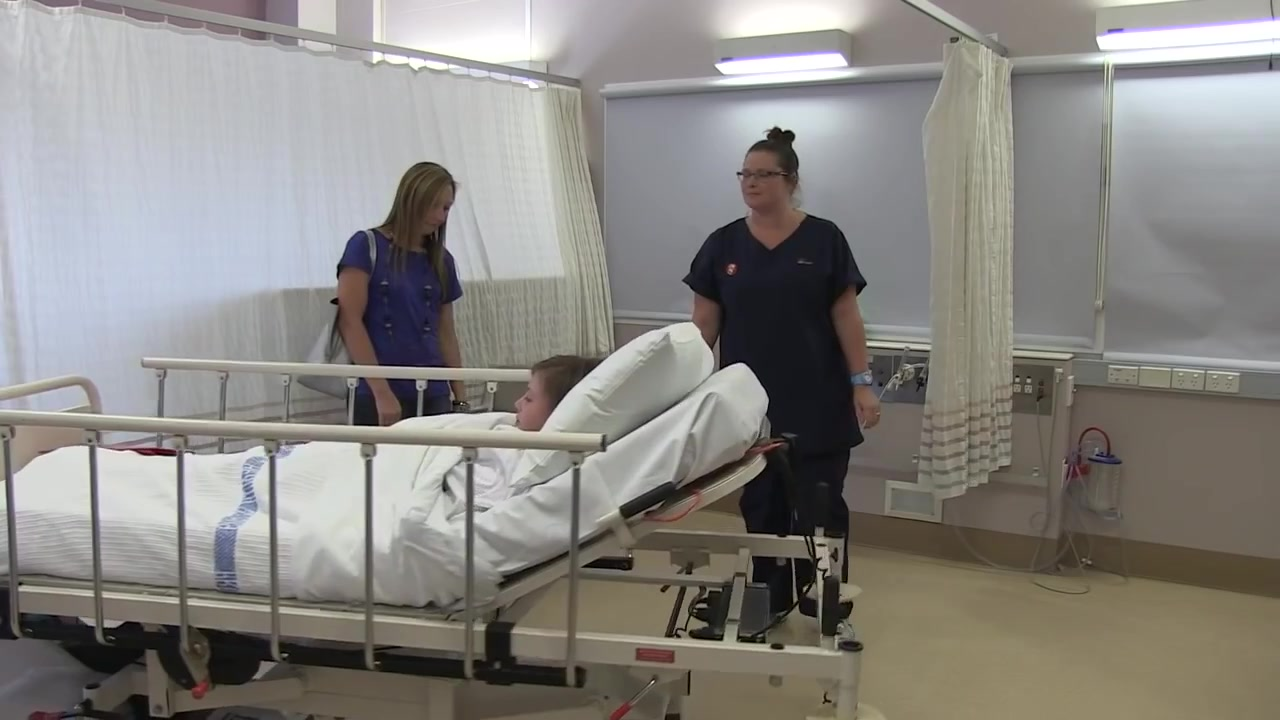bedrail: (1, 410, 604, 691), (135, 356, 534, 448)
curtain: (1, 1, 616, 392), (914, 41, 1016, 499)
foot_board: (1, 373, 102, 480)
hospital_bed: (1, 319, 862, 720)
patient: (244, 355, 605, 523)
staff: (683, 125, 882, 623)
visitor: (333, 160, 472, 421)
